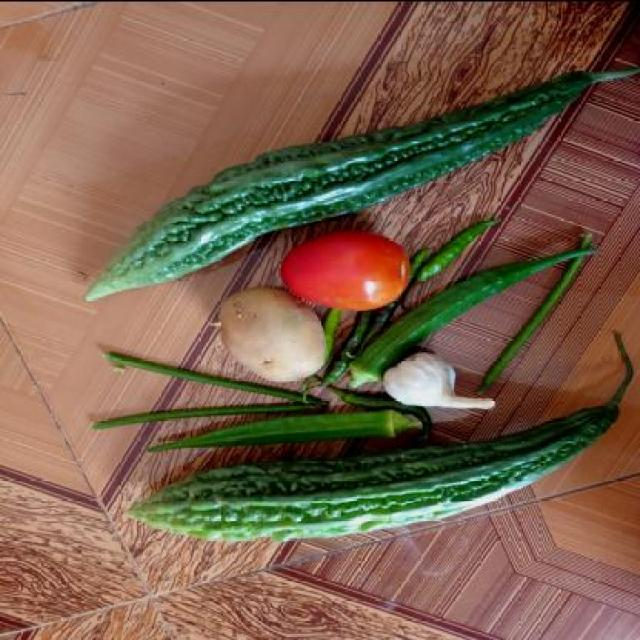Bitter melon: (123, 440, 600, 546)
Garlic: (383, 345, 479, 412)
Green Chili: (415, 208, 500, 278)
Lady finger: (132, 403, 412, 465)
Potato: (223, 286, 325, 379)
Tomato: (275, 231, 414, 306)
